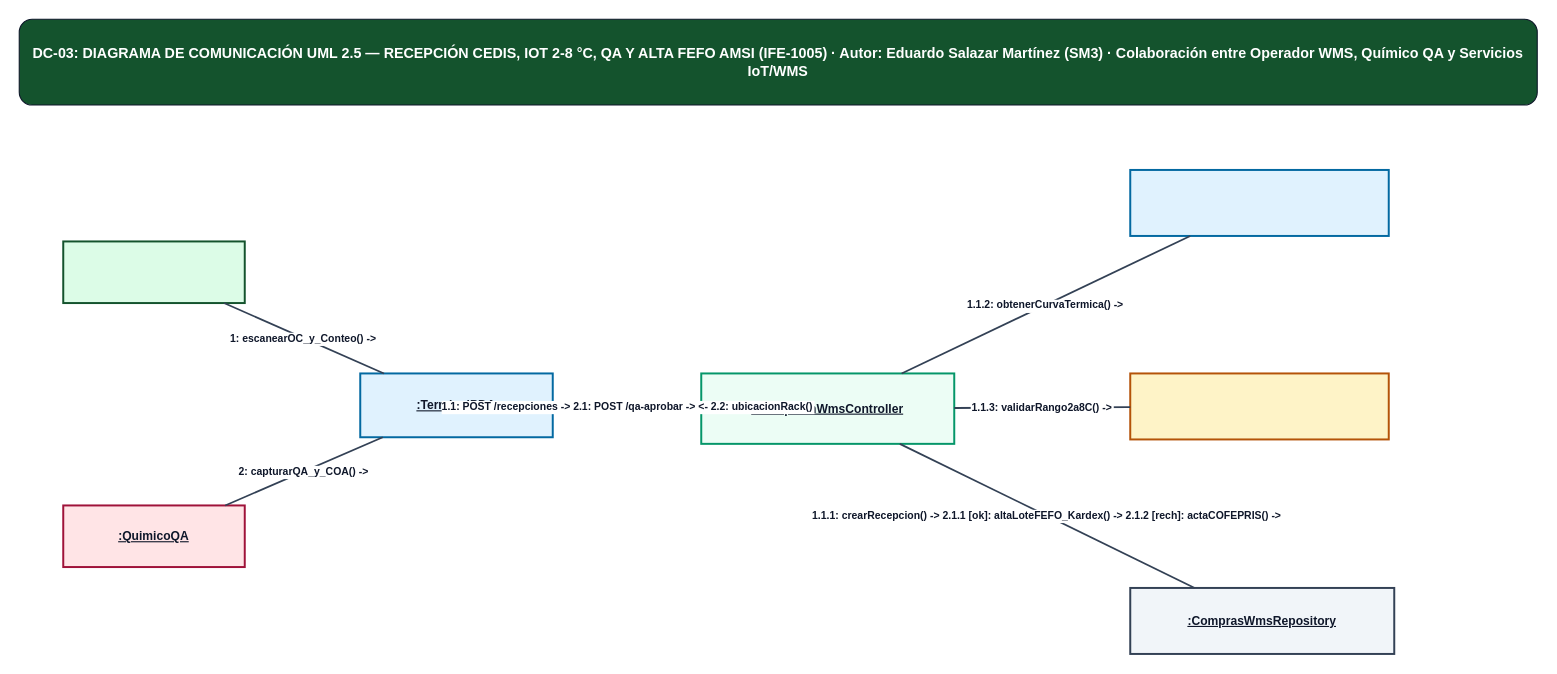
Some shapes in this 1557 by 674 pixel diagram are drawn without their labels. Each missing label, with the centre of its shape:
":ControlCalidadService" goes at pixel 1259 406.
":OperadorWMS" goes at pixel 153 271.
":TelemetriaIoTService" goes at pixel 1259 202.
